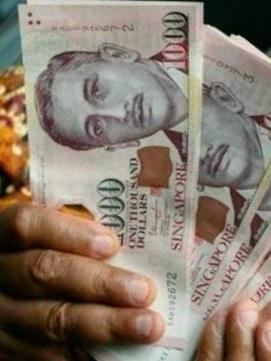1000SingaporeDollar: (29, 5, 186, 346)
